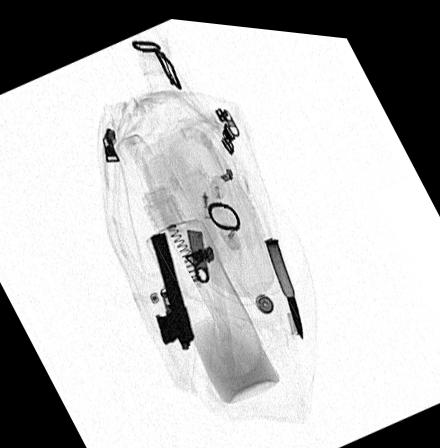Bullet: (264, 232, 303, 335)
Gun: (150, 228, 194, 347)
